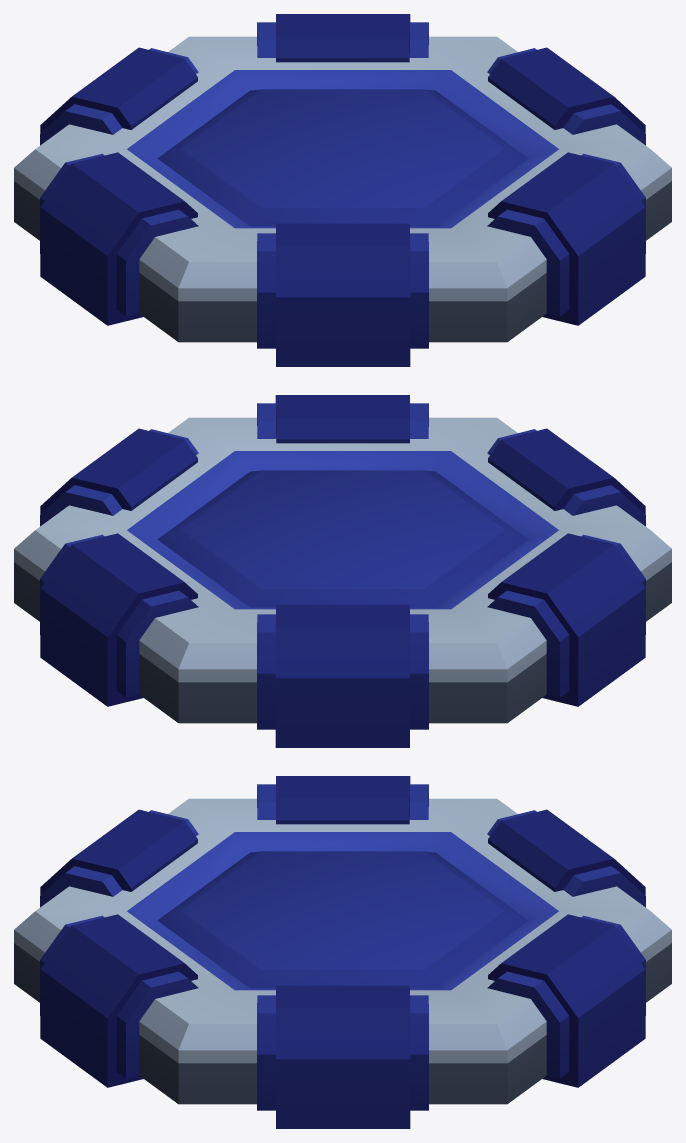
Rendered from Hexagon 09.FBX.
3 renders of one model, top to bottom at view 1: azimuth 30°, elevation 25°; view 2: azimuth 150°, elevation 25°; view 3: azimuth 270°, elevation 25°, orthographic.
Visible parts, largest first — view 1: Hexagon 09; view 2: Hexagon 09; view 3: Hexagon 09.
Part boxes in pixels (<box>): Hexagon 09: <box>14,14,671,366</box>; Hexagon 09: <box>14,395,671,747</box>; Hexagon 09: <box>14,776,671,1128</box>.
Bounding box in the file's own units: 305 × 57.3 × 323.
Materials: 1 (1 with a texture image).
